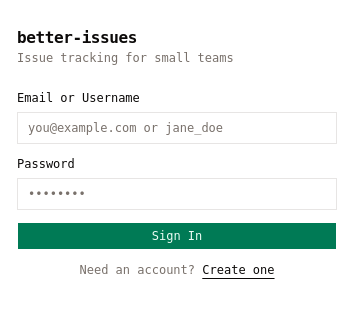
sign-in page › shows an inline error when sign-in returns an error payload
Step 1. Type "user@example.com" into the field labelled "Email or Username" → (177, 128), box [17,112,337,144]
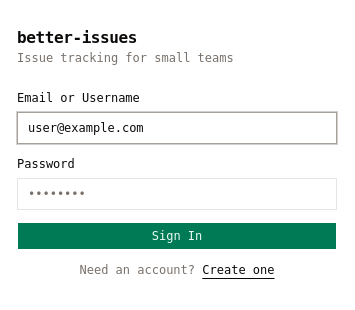
Step 2. Type "WrongPassword" into the password field labelled "Password" → (177, 194), box [17,178,337,210]
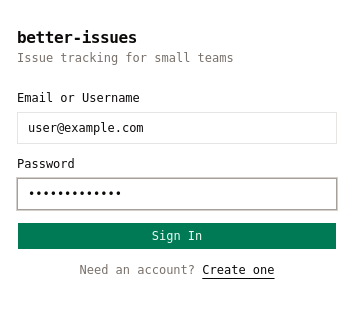
Step 3. Click the button "Sign In" → (177, 236), box [17,222,337,250]
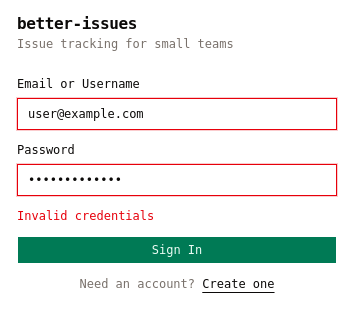
Expected: the text "Invalid credentials" is shown, [17,209,154,223]
